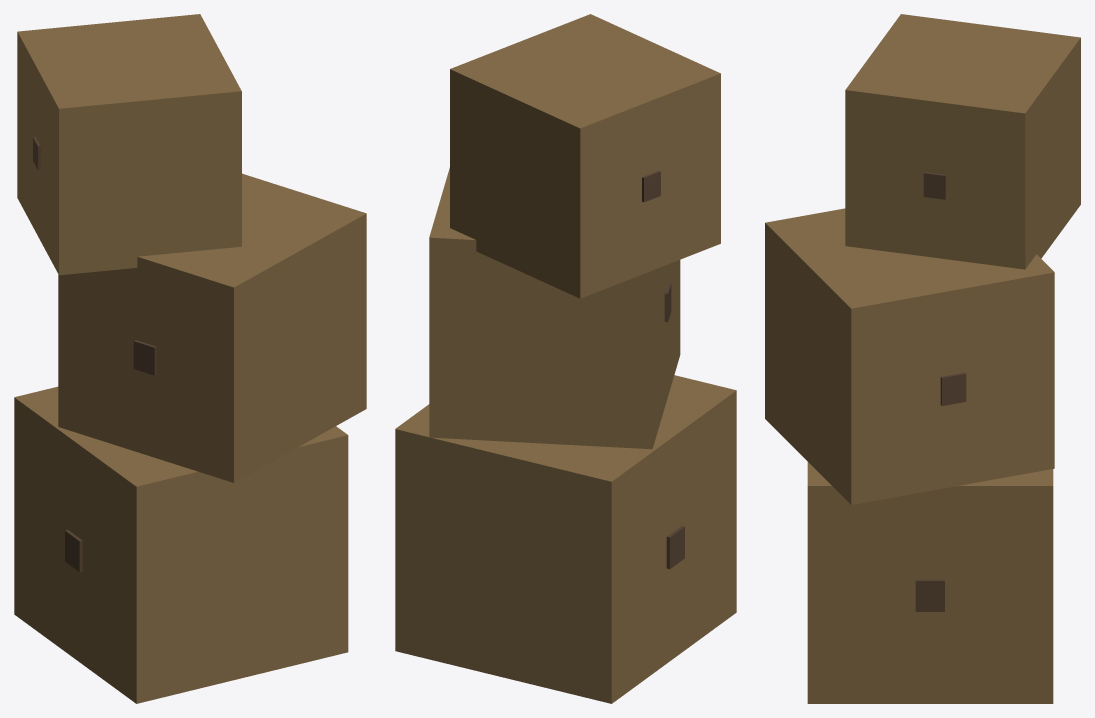
Rendered from P_CrateStack.glb.
The picture shows the model from 3 angles, left to right: view 1: azimuth 30°, elevation 25°; view 2: azimuth 150°, elevation 25°; view 3: azimuth 270°, elevation 25°; orthographic projection. The views are drawn at different scales.
Parts seen in each view (by area): view 1: P_CrateStack; view 2: P_CrateStack; view 3: P_CrateStack.
Boxes of the visible parts, bbox=[...] form: P_CrateStack: bbox=[14, 14, 366, 703]; P_CrateStack: bbox=[395, 14, 736, 703]; P_CrateStack: bbox=[765, 14, 1080, 703].
Size of the model in its own units: 0.8015 by 1.54 by 0.7715.
